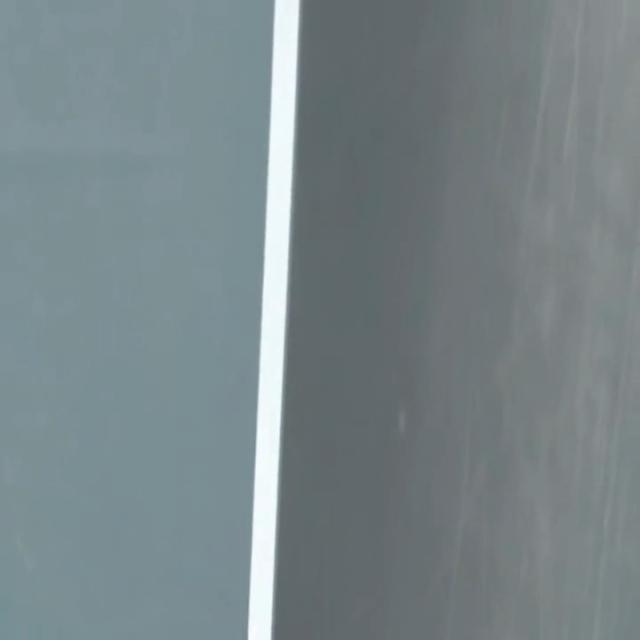left: (247, 0, 300, 639)
